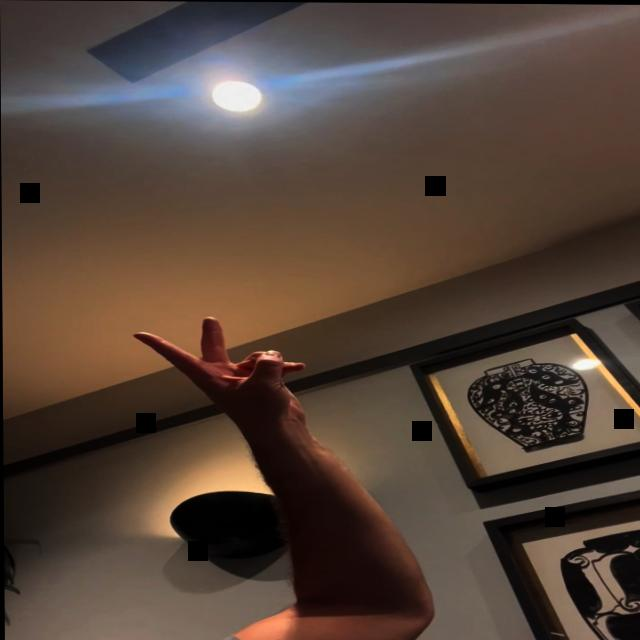Scissors: (127, 316, 308, 419)
